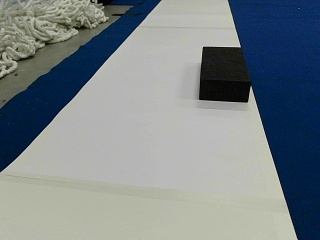block: (199, 45, 250, 102)
